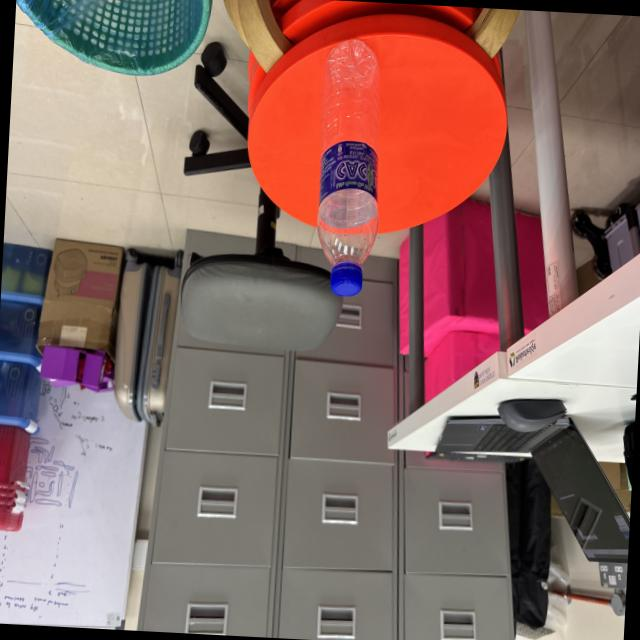plastic_bottle: (306, 29, 396, 307)
